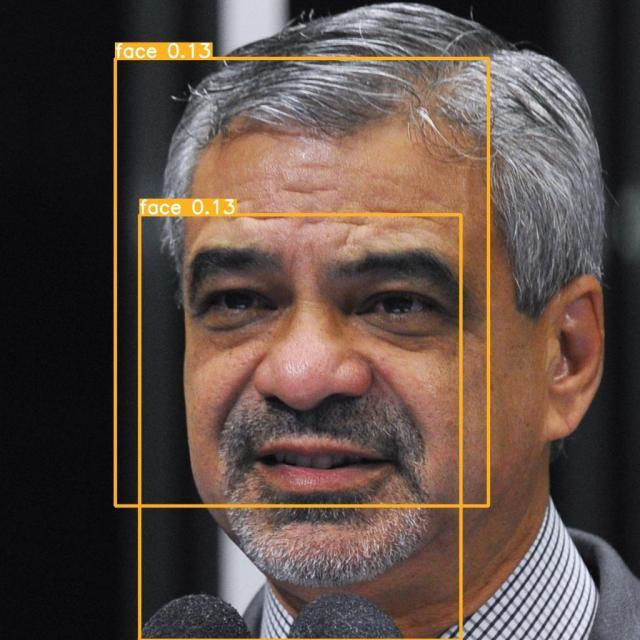Face: (115, 58, 600, 597)
